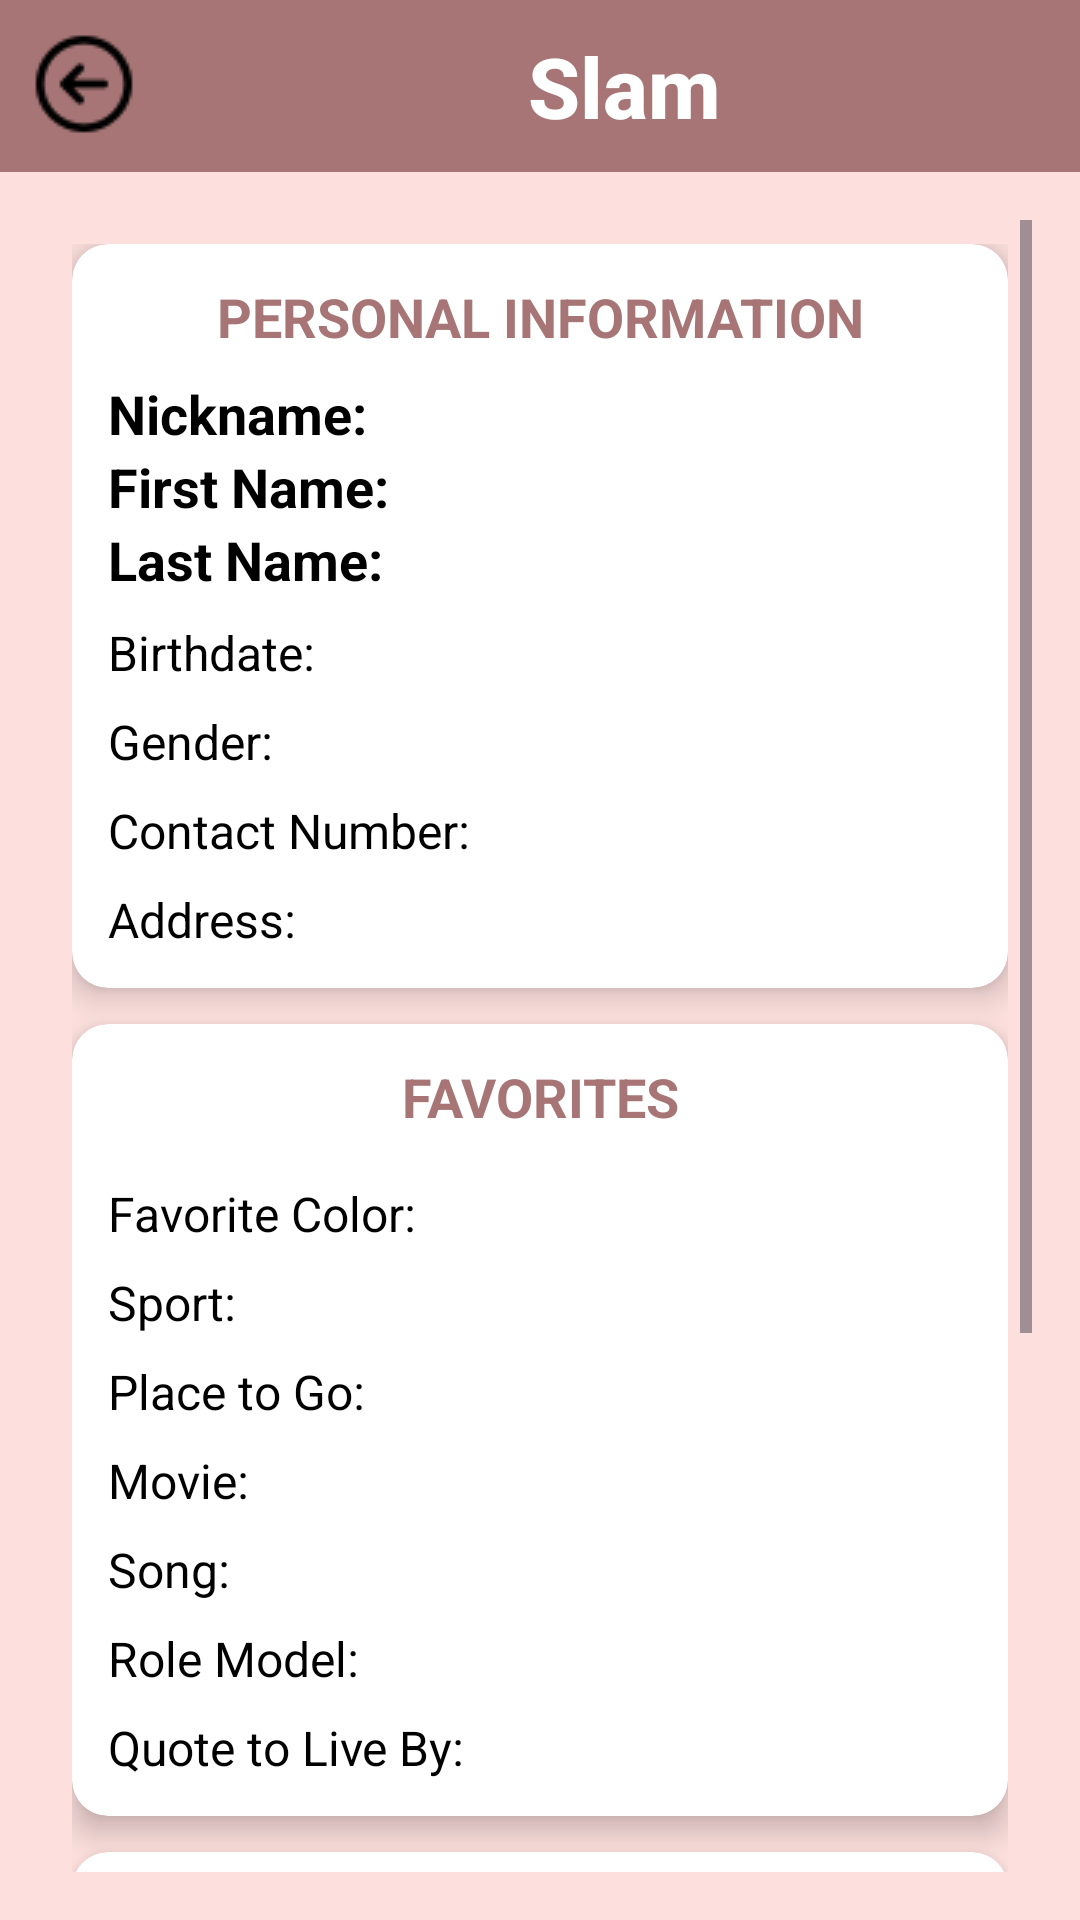

Where to tap for icons on this 1080×1920 app screen, as (x=x, y=y):
Back: (x=84, y=84)
